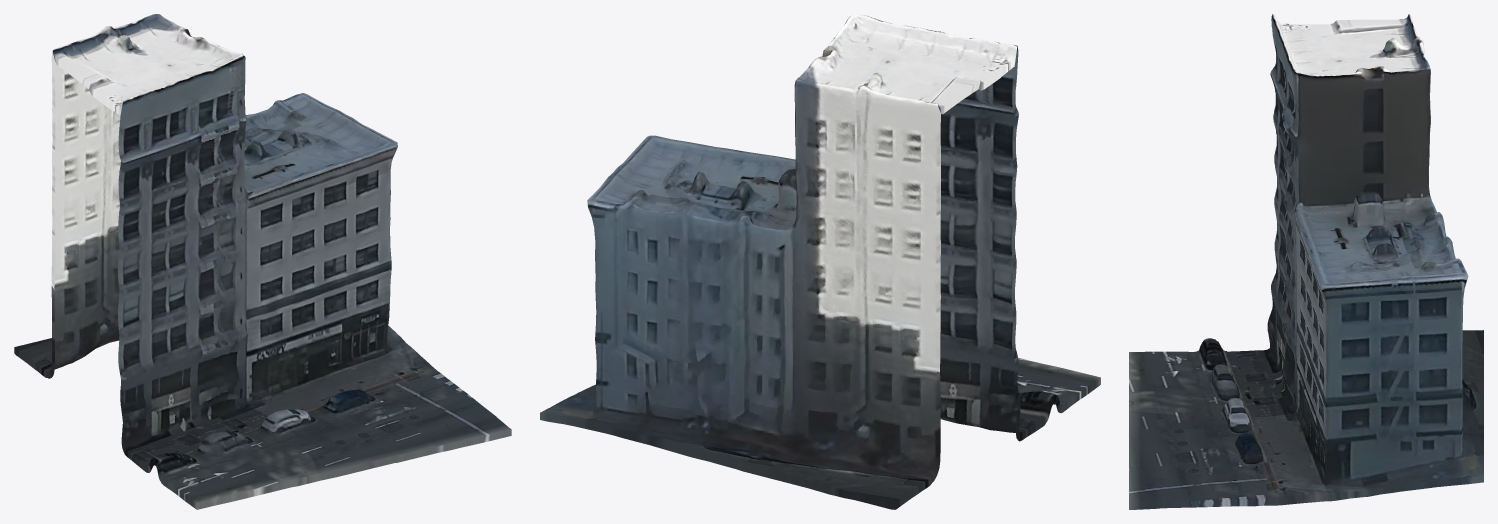
Rendered from z20-167759-405235-h0-yup-uvflip-v3-world.glb.
3 views of the same model, side by side, from view 1: azimuth 30°, elevation 25°; view 2: azimuth 150°, elevation 25°; view 3: azimuth 270°, elevation 25° (orthographic). The views are drawn at different scales.
Bounding box in the file's own units: 30.16 × 33.24 × 30.32.
1 material, 1 textured.
